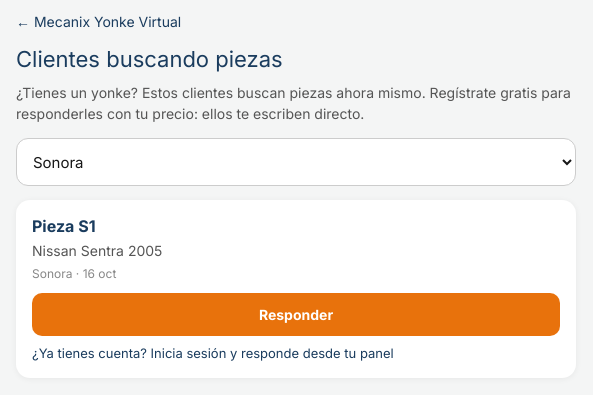
Test case: /pedidos-abiertos arranca con el estado del visitante › pide ?estado=auto y marca en el selector el estado que eligió el servidor
Check: the text "Pieza S1" is shown, box [32,216,96,236]
Step 1. Select "Baja California" in the dropdown named "Estado" → [296, 162], box [16,138,576,186]
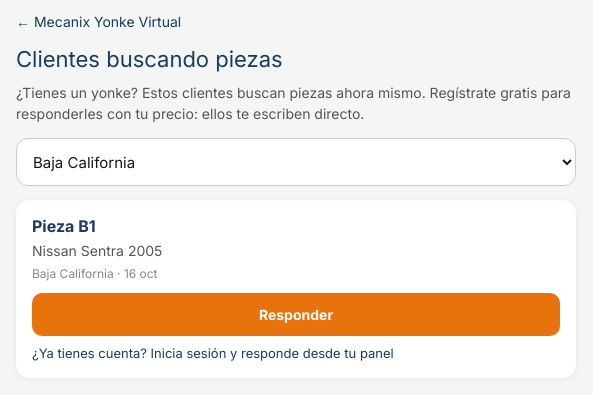
Check: the text "Pieza B1" is shown, box [32,216,96,236]
